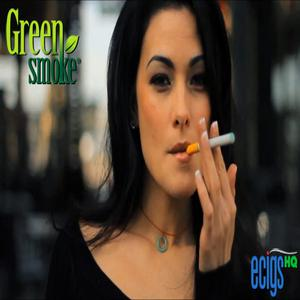cigarette: (185, 133, 238, 158)
